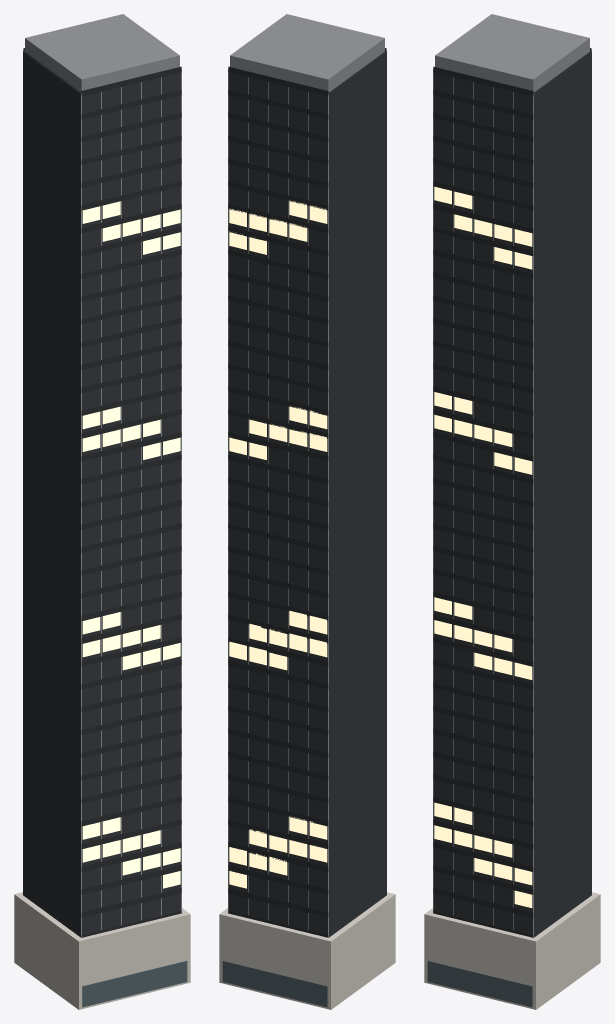
The model's file is tower_twin_b_40.glb.
3 renders of one model, left to right at view 1: azimuth 30°, elevation 25°; view 2: azimuth 150°, elevation 25°; view 3: azimuth 330°, elevation 25°, orthographic.
Parts seen in each view (by area): view 1: tower_twin_b_40; view 2: tower_twin_b_40; view 3: tower_twin_b_40.
Part boxes in pixels (x1,y1,x2,y2): tower_twin_b_40: (14, 14, 190, 1009); tower_twin_b_40: (219, 14, 395, 1009); tower_twin_b_40: (424, 14, 600, 1009).
Size of the model in its own units: 19 by 150 by 19.14.
